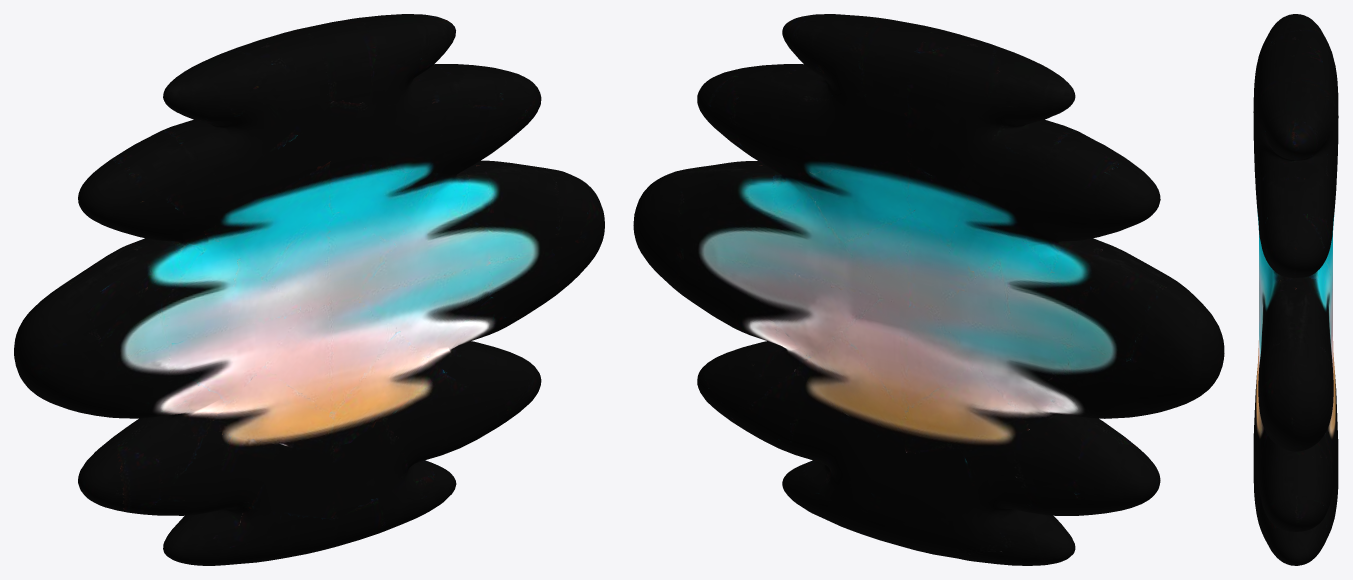
Rendered from captions.glb.
3 views of the same model, side by side, from view 1: azimuth 30°, elevation 25°; view 2: azimuth 150°, elevation 25°; view 3: azimuth 270°, elevation 25° (orthographic). The views are drawn at different scales.
Size of the model in its own units: 1.9 by 1.6 by 0.2641.
1 material, 1 textured.
